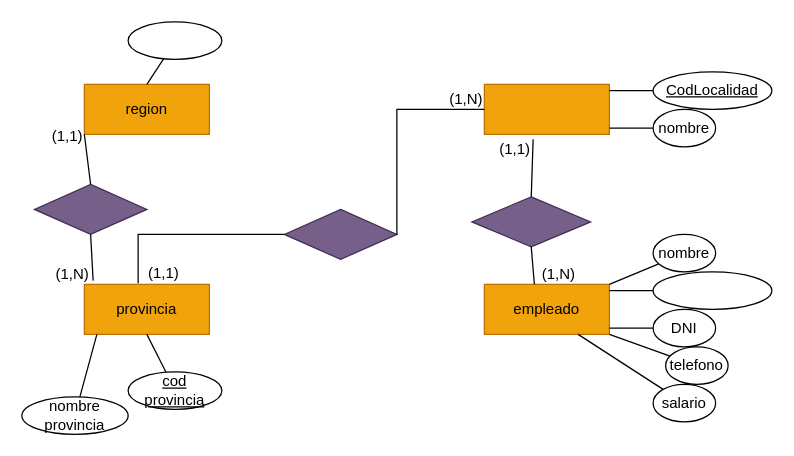
This 794x456 diagram has some shape labels left out. The shapes that lost their labels are listed below. From the top down, each one's centre as x and y in pixels, then its label:
At (174,40): "Nombre Region".
At (546,108): "localidad".
At (90,208): "corresponde".
At (531,221): "nace".
At (340,233): "pertenece".
At (712,290): "ID_empleado".
